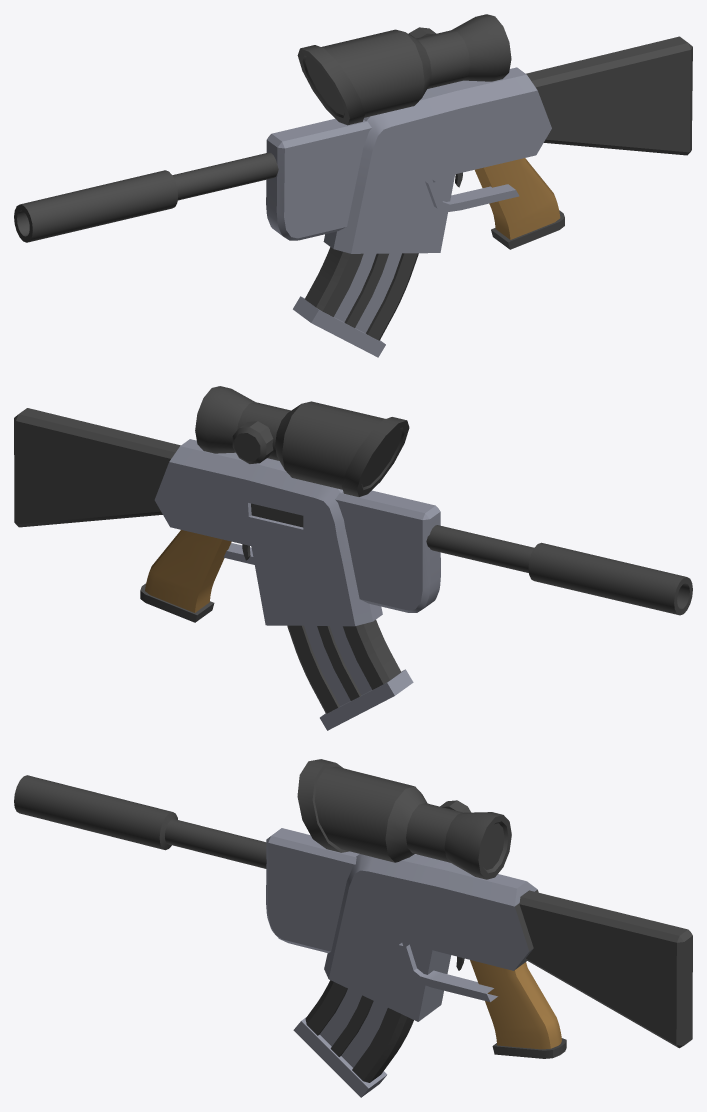
The model's file is quaternius-toon-shooter-game-kit-guns-gltf-sniper-2.gltf.
3 renders of one model, top to bottom at view 1: azimuth 30°, elevation 25°; view 2: azimuth 150°, elevation 25°; view 3: azimuth 330°, elevation 25°, orthographic.
Visible parts, largest first — view 1: Sniper_2; view 2: Sniper_2; view 3: Sniper_2.
Boxes of the visible parts, box(x1,y1,x2,y2) form: Sniper_2: box(14, 14, 692, 357); Sniper_2: box(14, 386, 692, 730); Sniper_2: box(14, 759, 692, 1097).
Size of the model in its own units: 1.74 by 0.7852 by 0.194.
